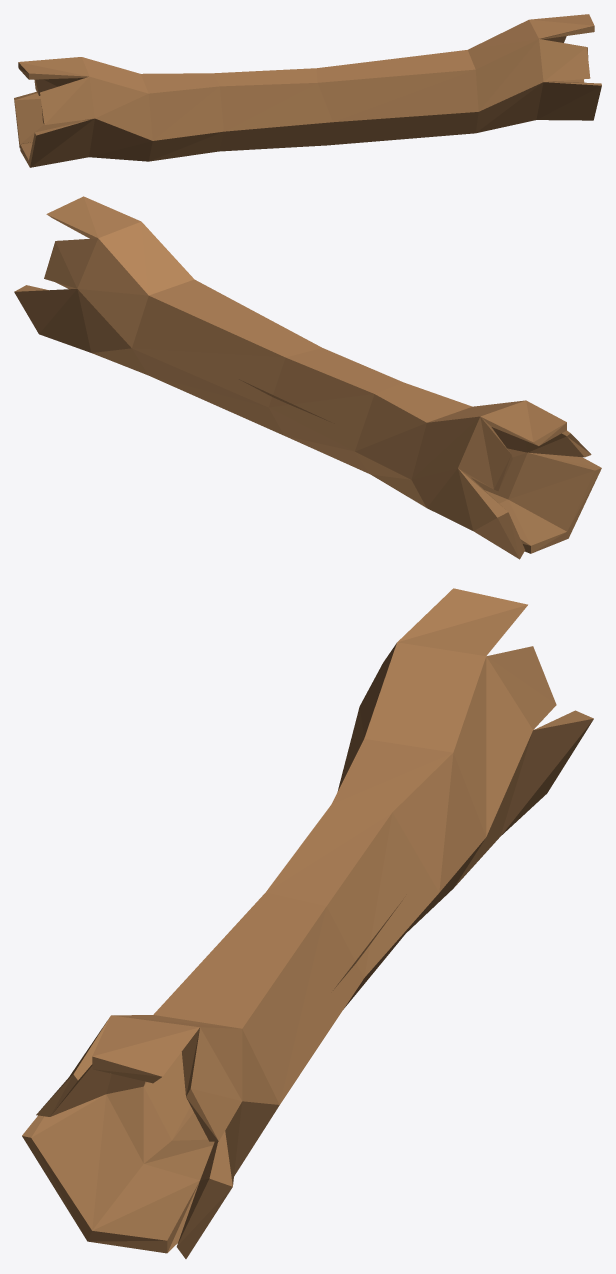
File: obj_hollow_log_8_0.obj
3 views of the same model, one above another, from view 1: azimuth 30°, elevation 25°; view 2: azimuth 150°, elevation 25°; view 3: azimuth 270°, elevation 25° (orthographic). The views are drawn at different scales.
Bounding box in the file's own units: 1.95 × 0.3594 × 0.9531.
